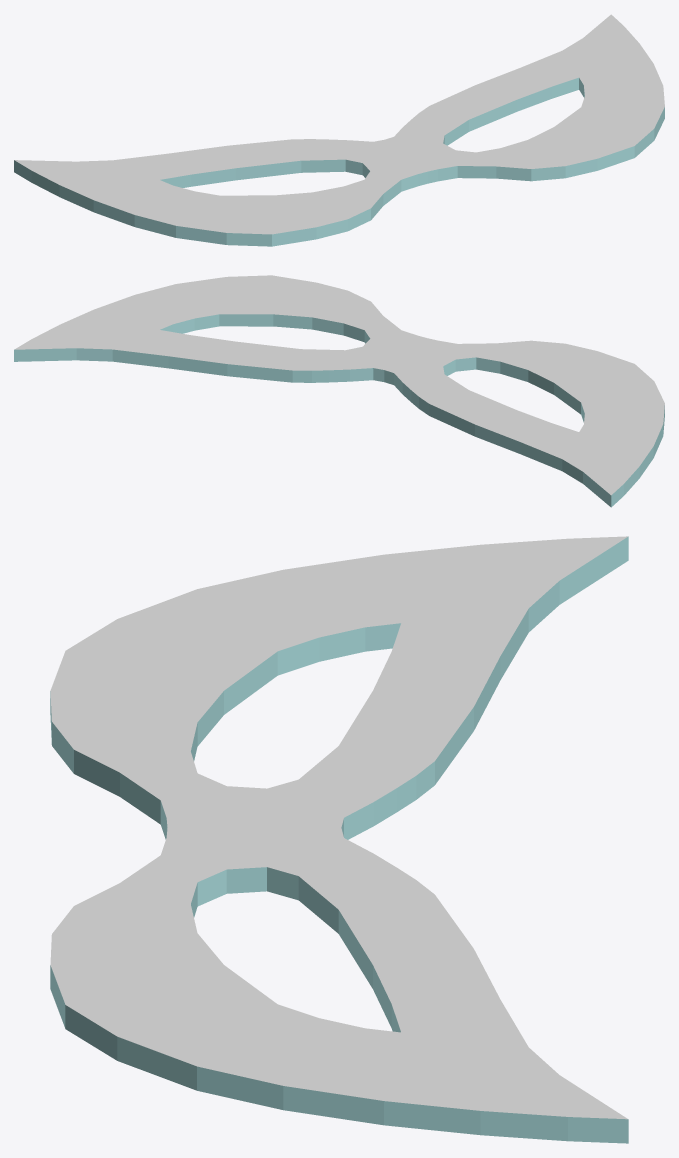
File: Carnival _Mask_01.fbx
3 views of the same model, one above another, from view 1: azimuth 30°, elevation 25°; view 2: azimuth 150°, elevation 25°; view 3: azimuth 270°, elevation 25° (orthographic). The views are drawn at different scales.
Visible parts, largest first — view 1: Carnival _Mask_01; view 2: Carnival _Mask_01; view 3: Carnival _Mask_01.
Boxes of the visible parts, x1,y1,x2,y2 form: Carnival _Mask_01: (14, 14, 664, 246); Carnival _Mask_01: (14, 275, 664, 507); Carnival _Mask_01: (50, 536, 628, 1143).
Bounding box in the file's own units: 158 × 3.08 × 66.31.
